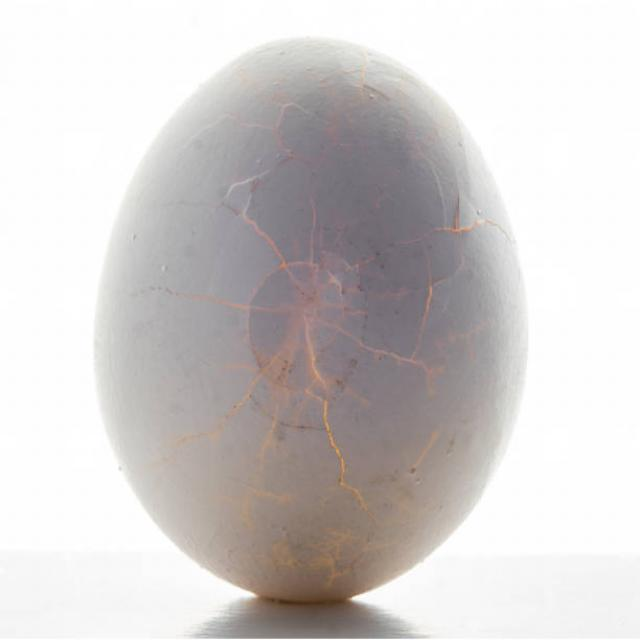biodegradable: (90, 35, 532, 597)
